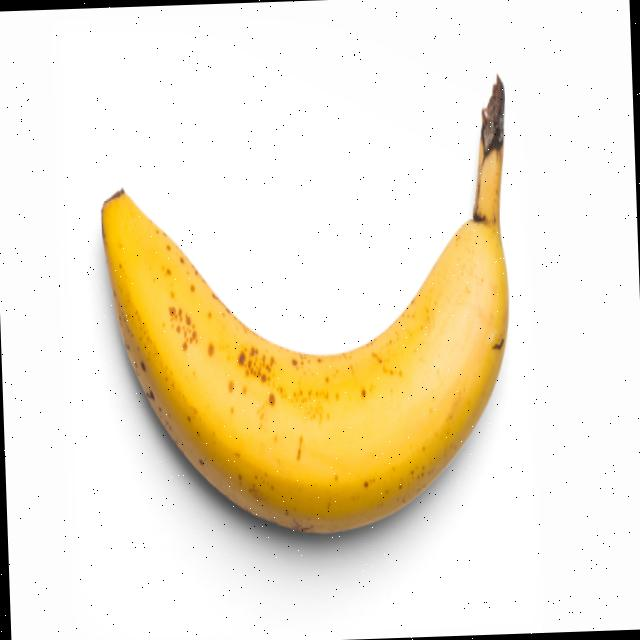Pisang: (95, 72, 519, 541)
